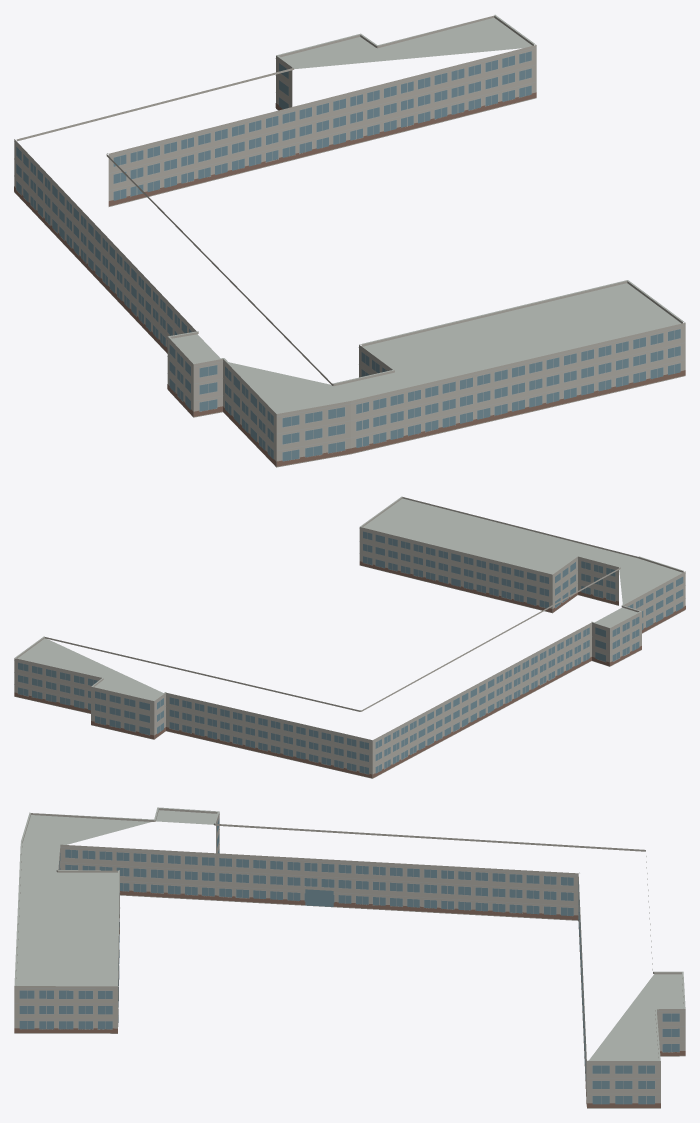
Rendered from public-d877a888-cc04-430f-8e27-38e23c22144e.glb.
3 views of the same model, one above another, from view 1: azimuth 30°, elevation 25°; view 2: azimuth 150°, elevation 25°; view 3: azimuth 270°, elevation 25° (orthographic). The views are drawn at different scales.
Parts seen in each view (by area): view 1: public-d877a888-cc04-430f-8e27-38e23c22144e; view 2: public-d877a888-cc04-430f-8e27-38e23c22144e; view 3: public-d877a888-cc04-430f-8e27-38e23c22144e.
Part boxes in pixels (left/top/right/bottom): public-d877a888-cc04-430f-8e27-38e23c22144e: left=14, top=14, right=685, bottom=467; public-d877a888-cc04-430f-8e27-38e23c22144e: left=14, top=496, right=685, bottom=778; public-d877a888-cc04-430f-8e27-38e23c22144e: left=14, top=807, right=685, bottom=1108.
Bounding box in the file's own units: 105 × 9.15 × 117.
